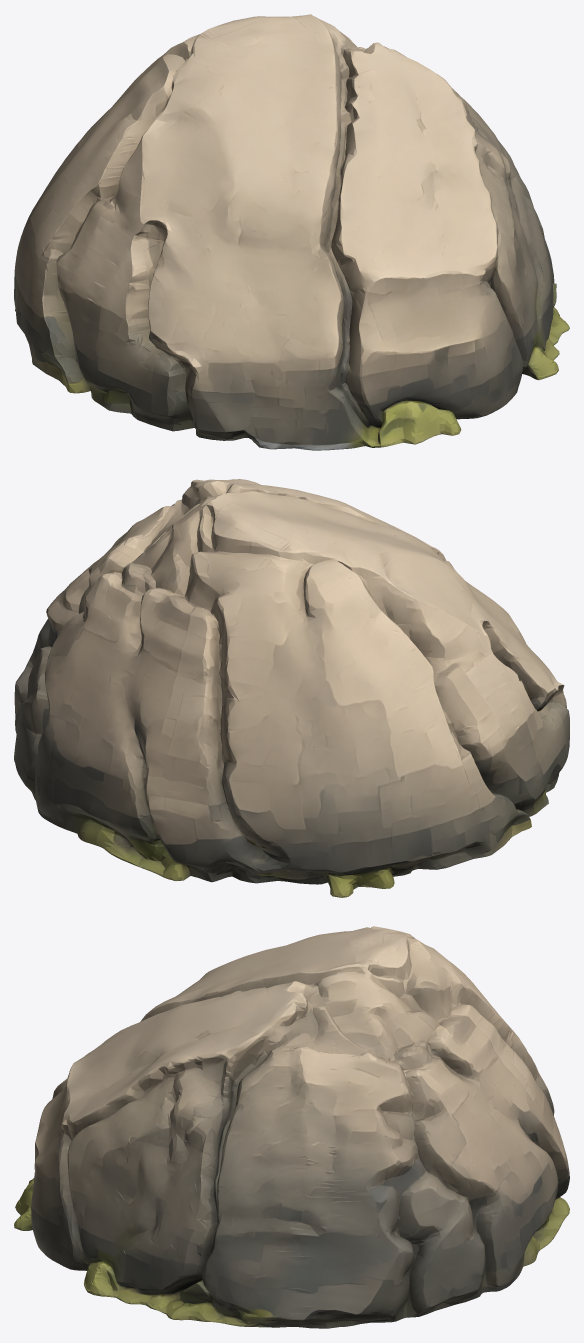
The model's file is boulder-2-lit.glb.
3 renders of one model, top to bottom at view 1: azimuth 30°, elevation 25°; view 2: azimuth 150°, elevation 25°; view 3: azimuth 270°, elevation 25°, orthographic. The views are drawn at different scales.
Parts seen in each view (by area): view 1: model; view 2: model; view 3: model.
Boxes of the visible parts, left/top/right/bottom form: model: left=14, top=14, right=569, bottom=450; model: left=14, top=479, right=569, bottom=897; model: left=14, top=926, right=569, bottom=1328.
Bounding box in the file's own units: 1.82 × 1.04 × 1.89.
1 material, 1 textured.
